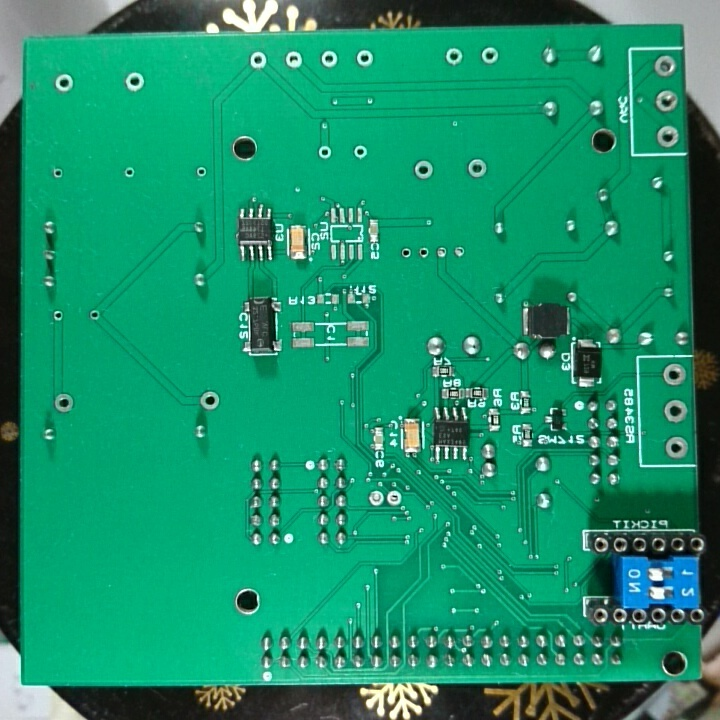F: (652, 87, 682, 117), (663, 432, 690, 463), (662, 396, 690, 425), (651, 52, 678, 80), (121, 69, 148, 96), (655, 123, 681, 149), (411, 157, 436, 184), (660, 362, 688, 386), (51, 390, 77, 415), (465, 155, 488, 183), (197, 388, 222, 413), (478, 43, 502, 69), (246, 48, 270, 73), (441, 45, 466, 69), (282, 48, 305, 73), (52, 71, 75, 94), (318, 47, 339, 72), (354, 47, 375, 71), (385, 487, 403, 511), (365, 488, 385, 509), (315, 143, 334, 163), (351, 142, 369, 163), (194, 163, 210, 183), (122, 163, 137, 183), (86, 306, 103, 323), (451, 243, 467, 260), (434, 244, 449, 262), (415, 246, 431, 262), (50, 308, 65, 324), (399, 245, 412, 263), (50, 165, 64, 181)
